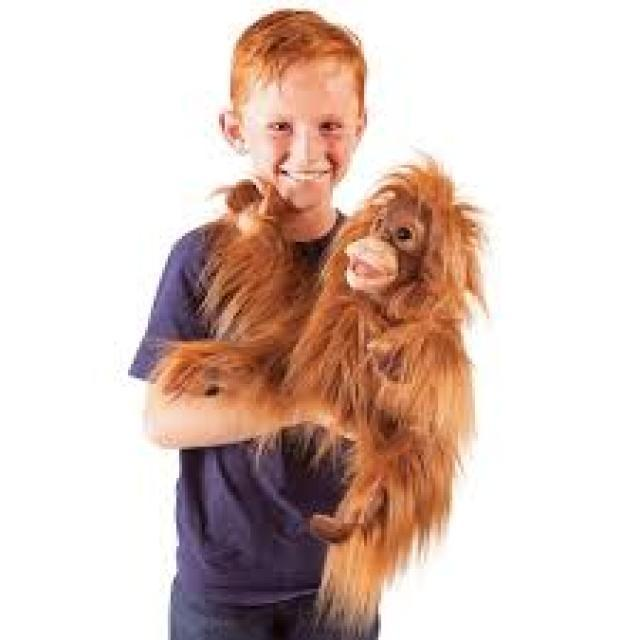soft-toy: (151, 164, 480, 613)
